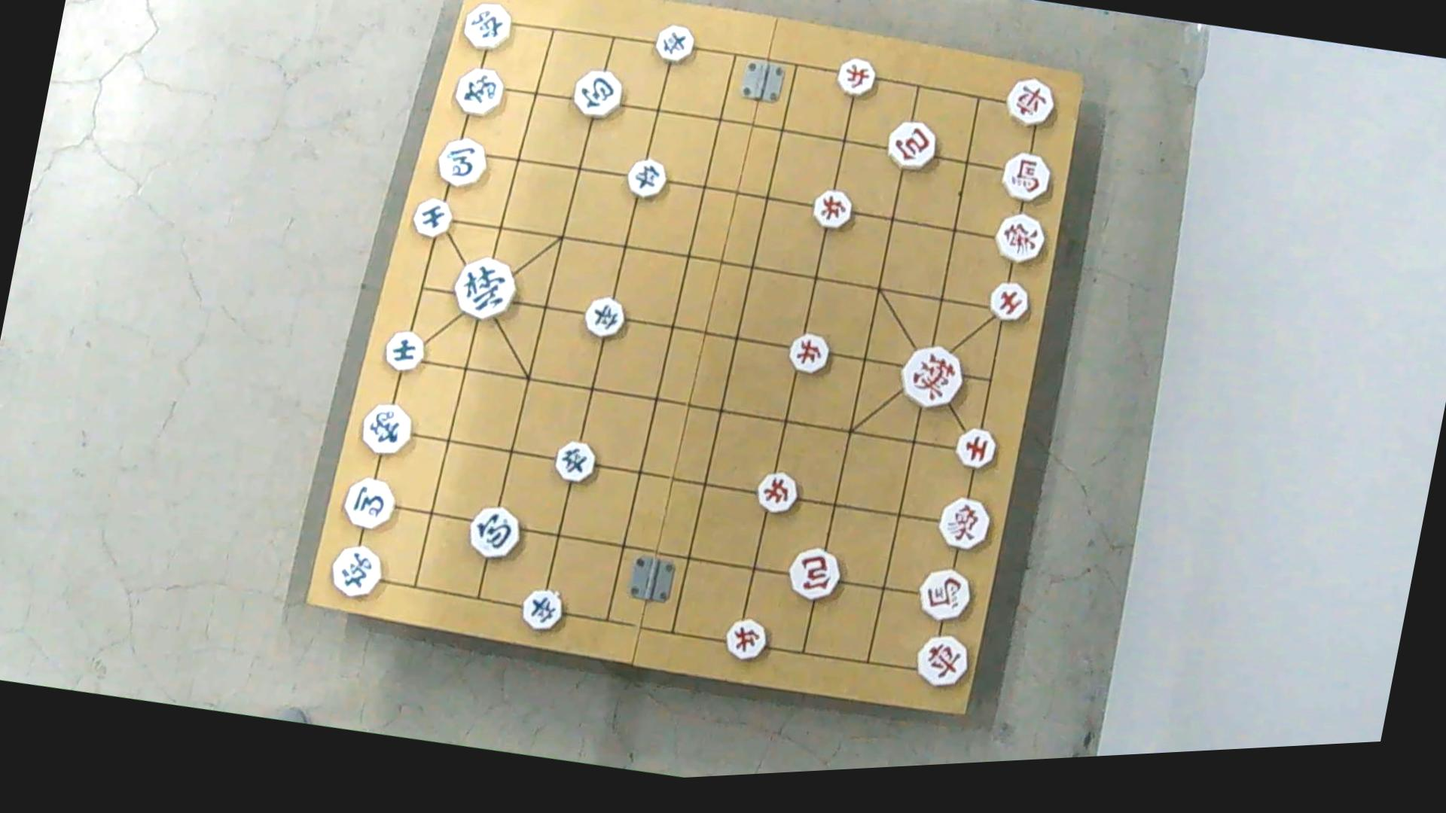cha_green: (328, 544, 387, 604), (457, 0, 514, 53)
cha_red: (911, 632, 973, 692), (1003, 75, 1060, 129)
jol_green: (520, 586, 569, 633), (553, 437, 602, 483), (584, 293, 632, 339), (624, 155, 672, 199), (653, 23, 699, 65)
jol_red: (753, 471, 803, 518), (724, 618, 774, 665), (786, 330, 835, 376), (807, 191, 857, 236), (834, 56, 880, 99)
ma_green: (340, 473, 401, 533), (435, 136, 493, 190)
ma_red: (915, 561, 977, 627), (996, 143, 1057, 209)
po_green: (463, 504, 523, 562), (570, 67, 628, 121)
po_red: (783, 545, 844, 603), (884, 117, 943, 172)
sa_green: (407, 192, 457, 240), (380, 327, 428, 376)
sa_red: (951, 425, 1000, 471), (984, 278, 1032, 324)
sang_green: (358, 396, 417, 460), (450, 65, 508, 120)
sang_red: (934, 495, 996, 555), (990, 209, 1050, 265)
wang_green: (451, 254, 522, 324)
wang_red: (898, 346, 971, 415)
